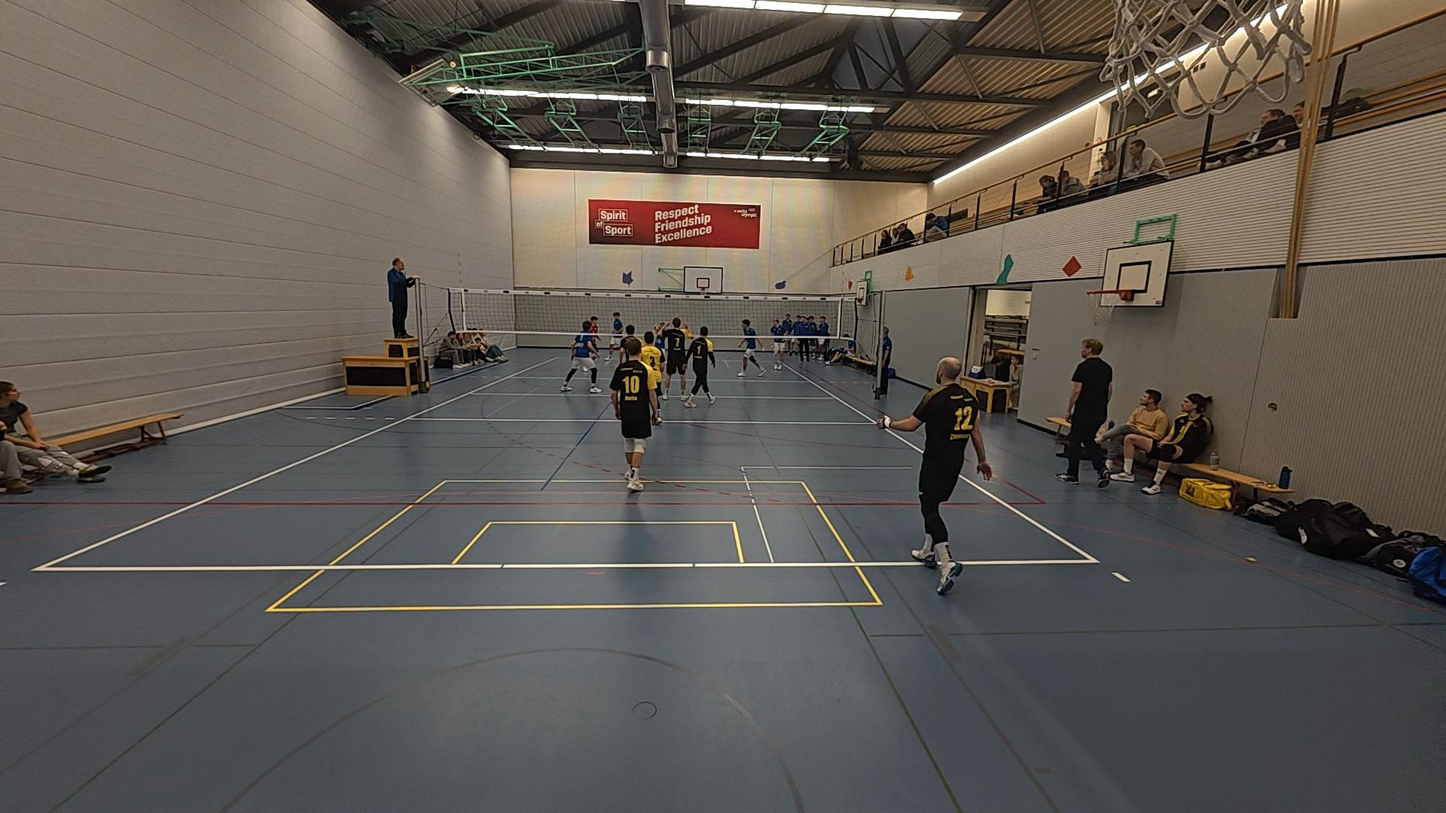Player: (878, 356, 991, 593), (610, 340, 659, 492), (560, 319, 602, 394), (609, 325, 643, 404), (637, 329, 665, 422), (664, 318, 693, 402), (688, 324, 716, 407), (734, 318, 767, 377), (580, 313, 602, 374), (767, 314, 789, 369), (607, 311, 629, 357)
Receive: (650, 322, 667, 364)
ball: (653, 323, 661, 332)
